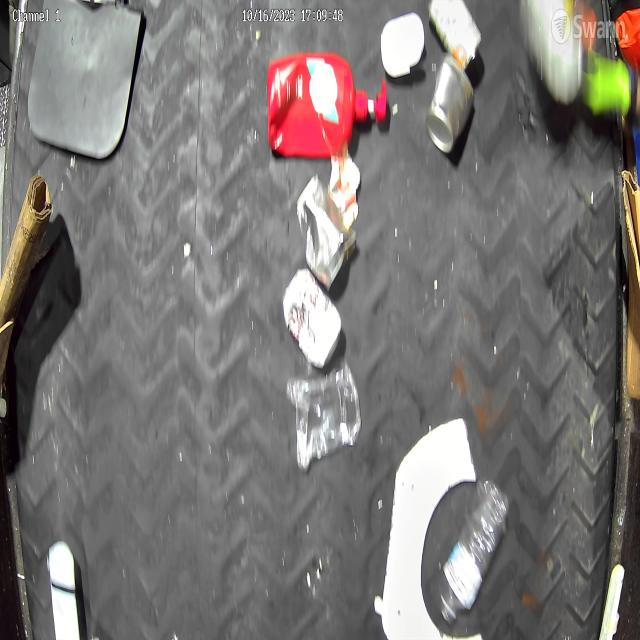can: (297, 178, 358, 290), (427, 63, 473, 153)
non_white_jug: (259, 51, 355, 151)
plastic_bottle: (442, 477, 506, 616)
